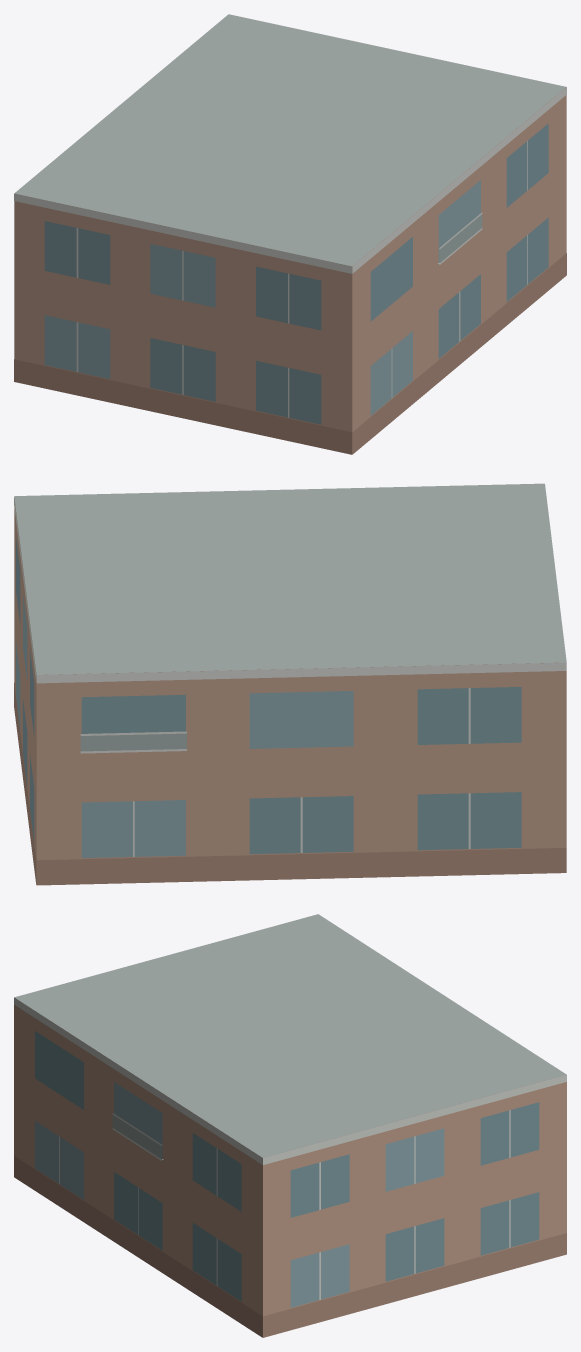
The model's file is survey-upis-32625332.glb.
The picture shows the model from 3 angles, top to bottom: view 1: azimuth 30°, elevation 25°; view 2: azimuth 150°, elevation 25°; view 3: azimuth 270°, elevation 25°; orthographic projection. The views are drawn at different scales.
Visible parts, largest first — view 1: survey-upis-32625332.tmp; view 2: survey-upis-32625332.tmp; view 3: survey-upis-32625332.tmp.
Boxes of the visible parts, left/top/right/bottom form: survey-upis-32625332.tmp: left=14, top=14, right=566, bottom=454; survey-upis-32625332.tmp: left=14, top=483, right=566, bottom=885; survey-upis-32625332.tmp: left=14, top=914, right=566, bottom=1337.
Size of the model in its own units: 17.76 by 6.1 by 17.
